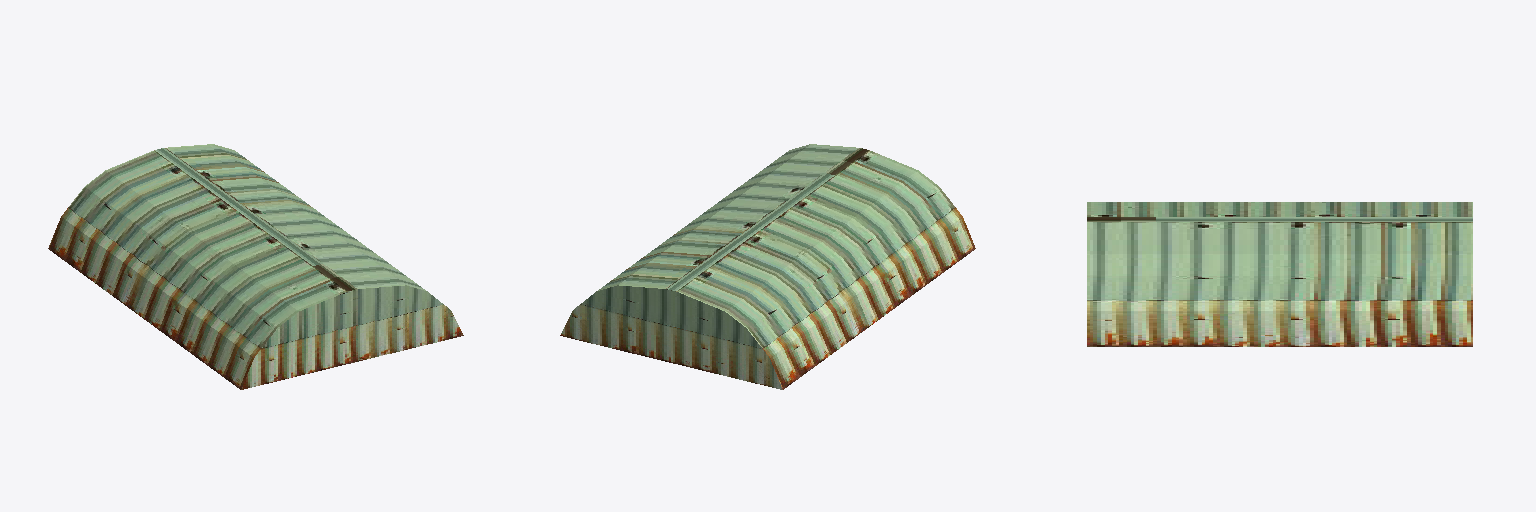
3 renders of one model, left to right at view 1: azimuth 30°, elevation 25°; view 2: azimuth 150°, elevation 25°; view 3: azimuth 270°, elevation 25°, orthographic.
Visible parts, largest first — view 1: roof_Cube; view 2: roof_Cube; view 3: roof_Cube.
Part boxes in pixels (x1,y1,x2,y2): roof_Cube: (48,144,463,389); roof_Cube: (560,144,975,389); roof_Cube: (1087,202,1472,346).
Size of the model in its own units: 118 by 36.84 by 177.
Materials: 1 (1 with a texture image).